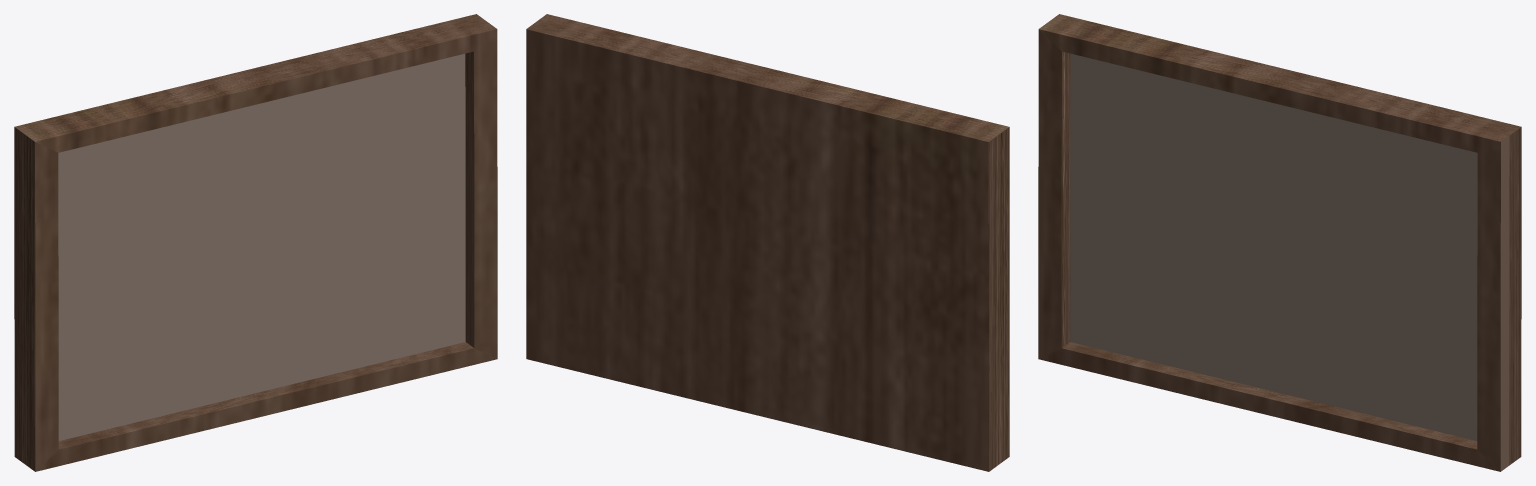
Rendered from Cuadro_4x3 1.fbx.
The picture shows the model from 3 angles, left to right: view 1: azimuth 30°, elevation 25°; view 2: azimuth 150°, elevation 25°; view 3: azimuth 330°, elevation 25°; orthographic projection.
Visible parts, largest first — view 1: Cuadro_3x2.001; view 2: Cuadro_3x2.001; view 3: Cuadro_3x2.001.
Boxes of the visible parts, <box> form: Cuadro_3x2.001: <box>14,14,497,471</box>; Cuadro_3x2.001: <box>526,14,1009,471</box>; Cuadro_3x2.001: <box>1038,14,1521,471</box>.
Bounding box in the file's own units: 4400 × 3001 × 347.
1 material, 1 textured.
